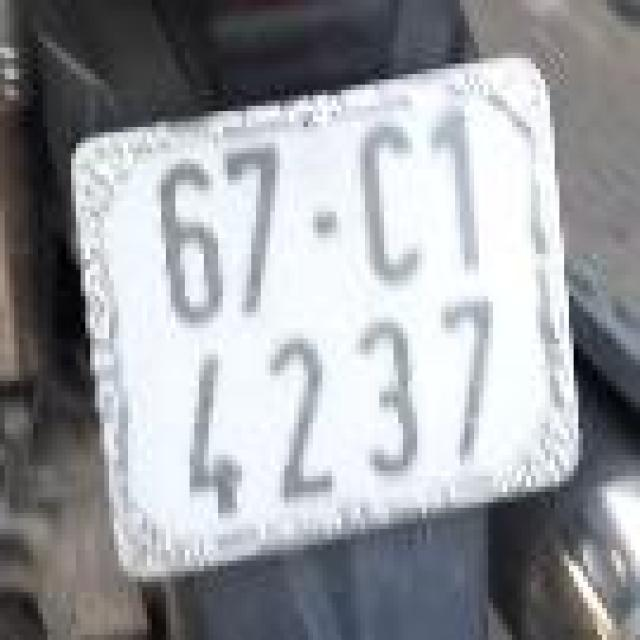1: (426, 86, 505, 292)
2: (257, 323, 347, 513)
3: (341, 305, 424, 496)
4: (180, 345, 259, 529)
6: (151, 148, 234, 334)
7: (216, 131, 296, 330), (433, 292, 504, 474)
C: (349, 106, 442, 301)
